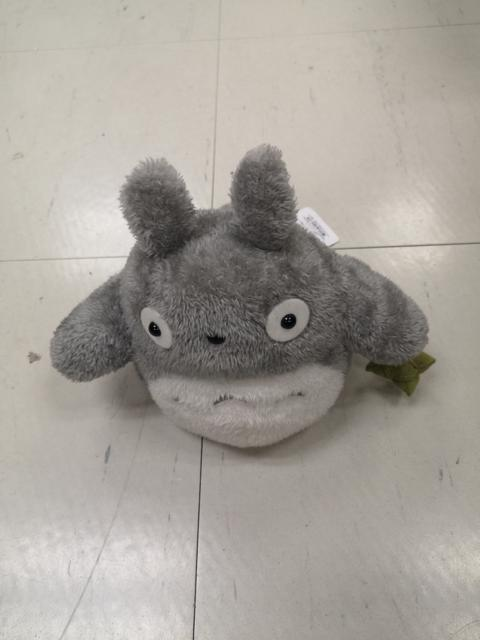totoro: (47, 141, 440, 466)
